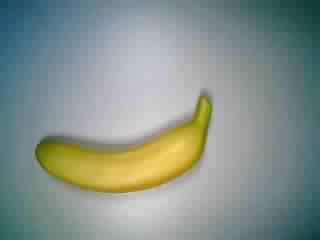banana: (32, 99, 212, 191)
